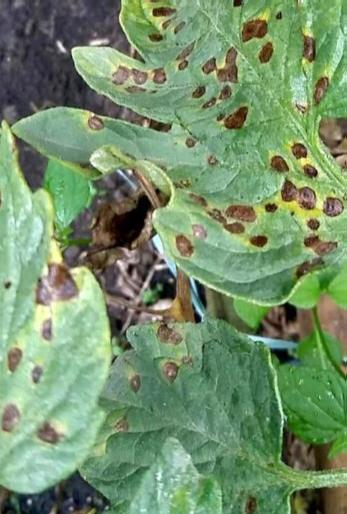Tomato Early blight leaf: (22, 0, 347, 297), (80, 312, 312, 514)
